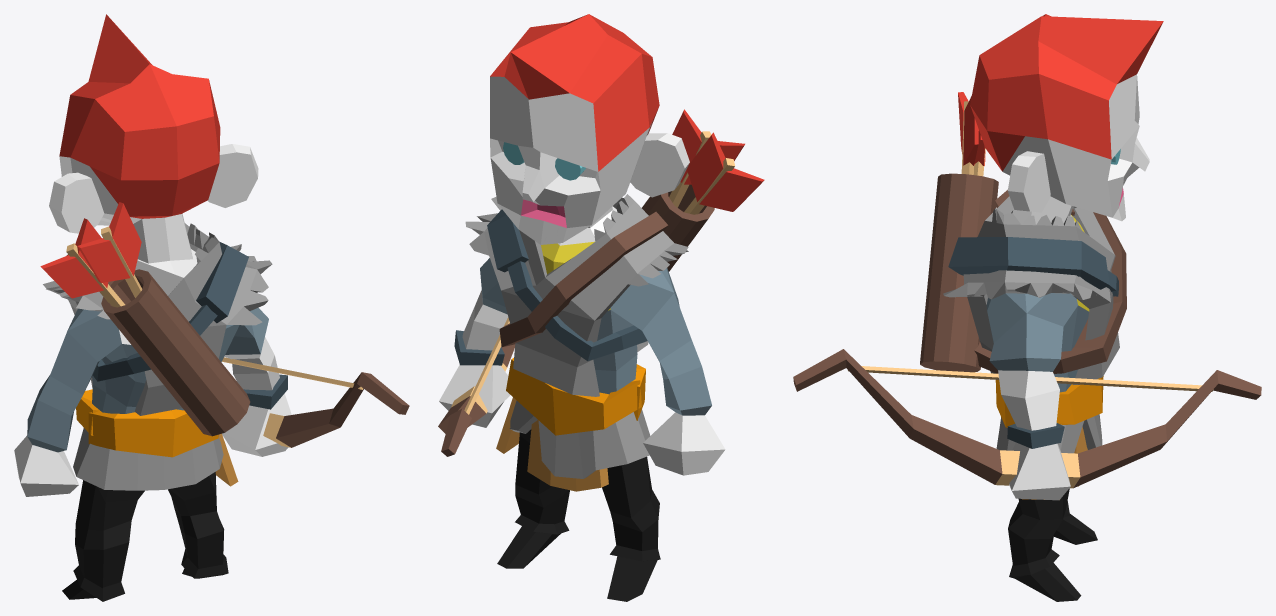
The model's file is scene_hKTWaDOYGa.glb.
3 views of the same model, side by side, from view 1: azimuth 30°, elevation 25°; view 2: azimuth 150°, elevation 25°; view 3: azimuth 270°, elevation 25° (orthographic). The views are drawn at different scales.
Visible parts, largest first — view 1: group299629432, group1469563817, group573334917, group345575072, group650885447, group1382416224, group691442950, group243853868, group1379093118, group1388192718, group200881088, group862875577 (+1 smaller); view 2: group299629432, group573334917, group345575072, group650885447, group691442950, group1906843587, group1379093118, group1388192718, group1382416224, group1469563817, group544311417, group243853868 (+3 smaller); view 3: group299629432, group1382416224, group573334917, group1469563817, group691442950, group1906843587, group200881088, group650885447, group345575072, group243853868, group862875577.
Part boxes in pixels (left/top/right/bottom): group299629432: left=14, top=14, right=291, bottom=601; group1469563817: left=101, top=269, right=250, bottom=436; group573334917: left=43, top=223, right=272, bottom=415; group345575072: left=73, top=428, right=223, bottom=490; group650885447: left=76, top=389, right=218, bottom=457; group1382416224: left=222, top=357, right=409, bottom=447; group691442950: left=93, top=241, right=248, bottom=381; group243853868: left=77, top=202, right=142, bottom=297; group1379093118: left=40, top=218, right=125, bottom=307; group1388192718: left=49, top=172, right=104, bottom=233; group200881088: left=207, top=144, right=258, bottom=207; group862875577: left=243, top=374, right=287, bottom=409; group299629432: left=439, top=14, right=725, bottom=601; group573334917: left=465, top=194, right=688, bottom=396; group345575072: left=509, top=400, right=650, bottom=478; group650885447: left=506, top=358, right=645, bottom=435; group691442950: left=487, top=209, right=647, bottom=361; group1906843587: left=499, top=211, right=668, bottom=347; group1379093118: left=684, top=132, right=764, bottom=214; group1388192718: left=630, top=133, right=689, bottom=197; group1382416224: left=438, top=317, right=515, bottom=456; group1469563817: left=642, top=184, right=714, bottom=271; group544311417: left=527, top=420, right=608, bottom=491; group243853868: left=669, top=109, right=744, bottom=207; group299629432: left=970, top=14, right=1163, bottom=601; group1382416224: left=793, top=349, right=1261, bottom=488; group573334917: left=943, top=196, right=1119, bottom=384; group1469563817: left=920, top=173, right=998, bottom=372; group691442950: left=948, top=237, right=1118, bottom=296; group1906843587: left=974, top=189, right=1126, bottom=373; group200881088: left=1007, top=151, right=1050, bottom=212; group650885447: left=995, top=376, right=1103, bottom=427; group345575072: left=996, top=414, right=1102, bottom=453; group243853868: left=958, top=92, right=978, bottom=174; group862875577: left=1007, top=423, right=1064, bottom=448.
Bounding box in the file's own units: 0.7084 × 1.3 × 0.9993.
